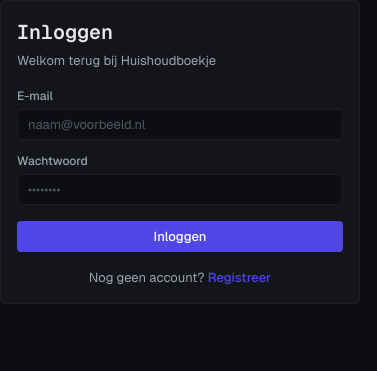
Test case: shows error message when login fails
Type "test@example.com" into the field labelled "E-mail" at x=180, y=124, box [17,108,343,140]
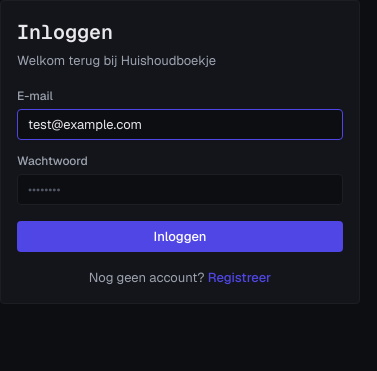
Type "wrong" into the password field labelled "Wachtwoord" at x=180, y=189, box [17,174,343,204]
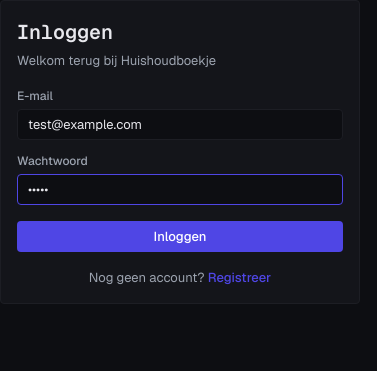
Click the button "Inloggen" at x=180, y=236, box [17,220,343,252]
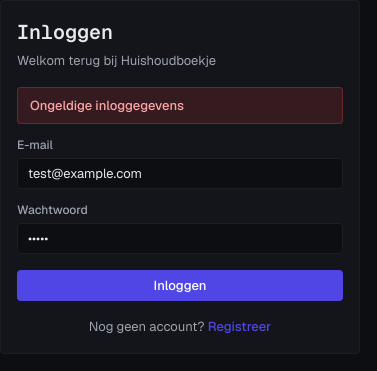
Expected: the text "Ongeldige inloggegevens" is shown, [17,86,343,124]
